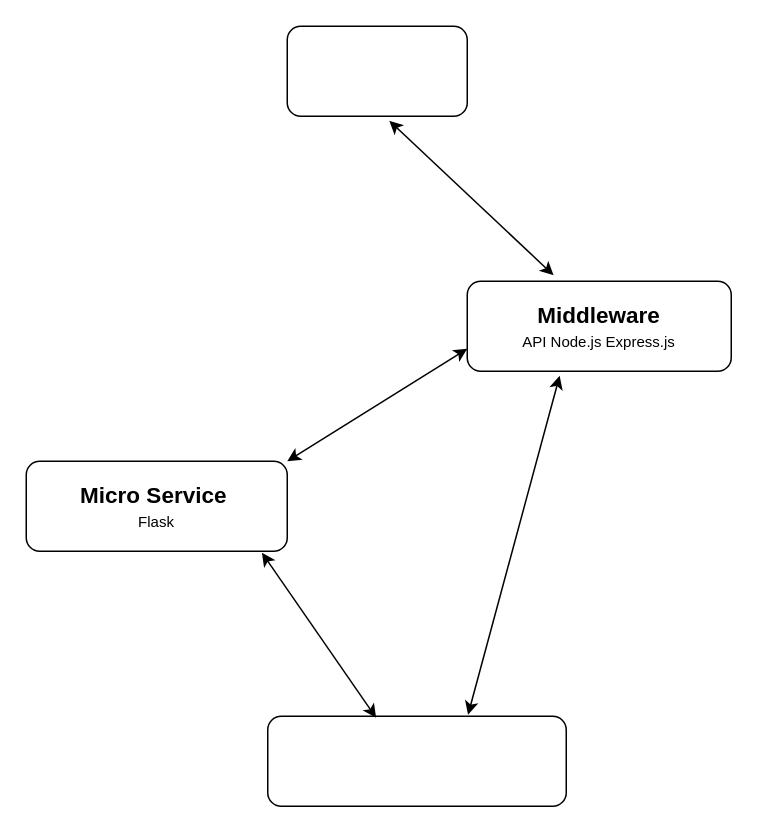
This 758x833 diagram has some shape labels left out. The shapes that lost their labels are listed below. From the top down, each one's centre as x and y in pixels, then its label:
At pixel 376 70: "Client Web Mobile".
At pixel 416 760: "Base de données MySql".
